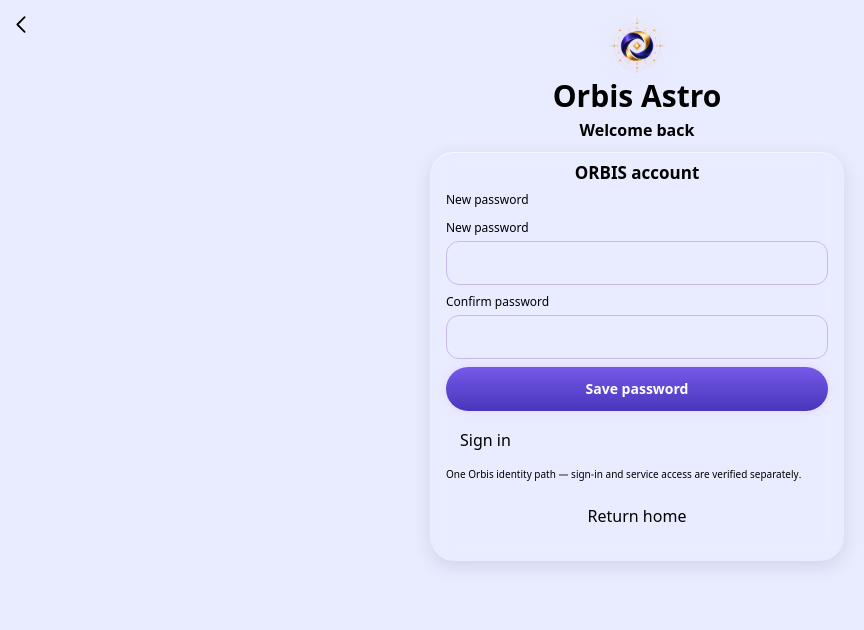
Test: reports a reset-password outcome: false
The image size is (864, 630).
Type "New-password-123" into the password field named "password" at (637, 263), box x1=446 y1=241 x2=828 y2=285
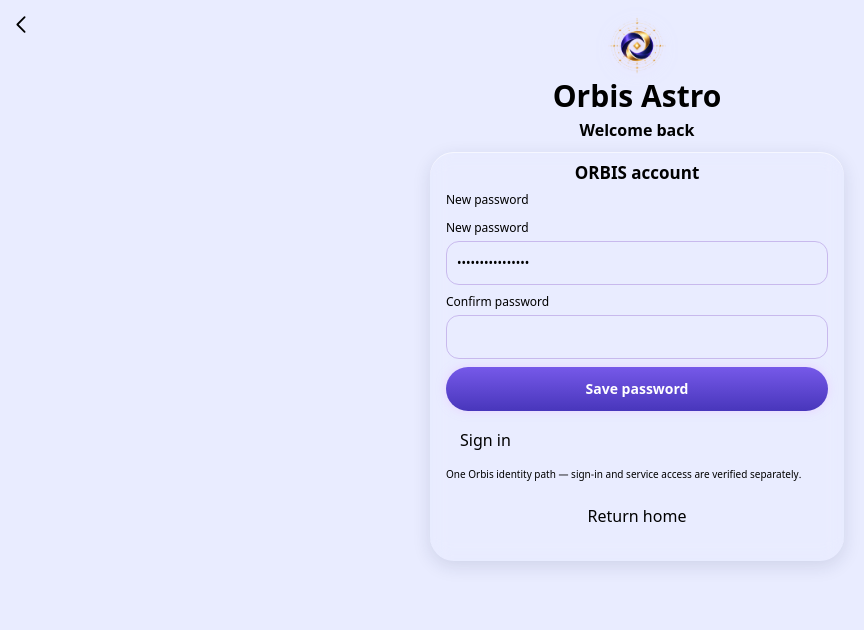
Type "New-password-123" into the password field named "confirmation" at (637, 337), box x1=446 y1=315 x2=828 y2=359
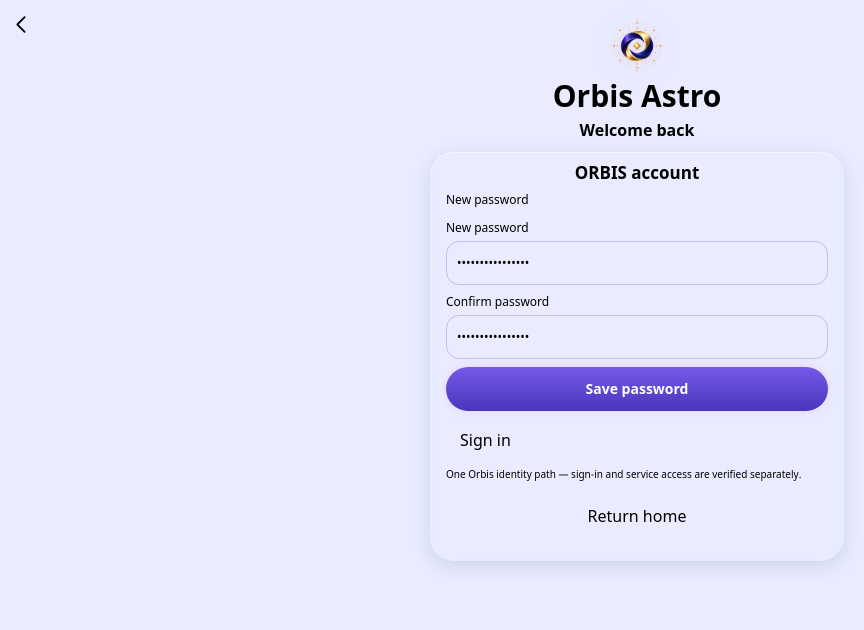
Submit the form, box x1=446 y1=219 x2=828 y2=411
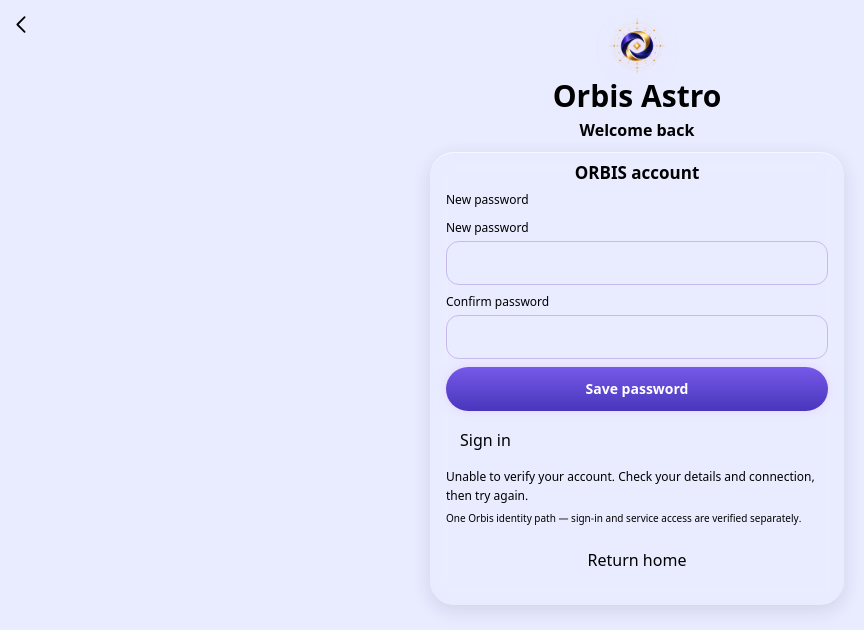
Expected: the message is shown, x1=446 y1=469 x2=828 y2=508
